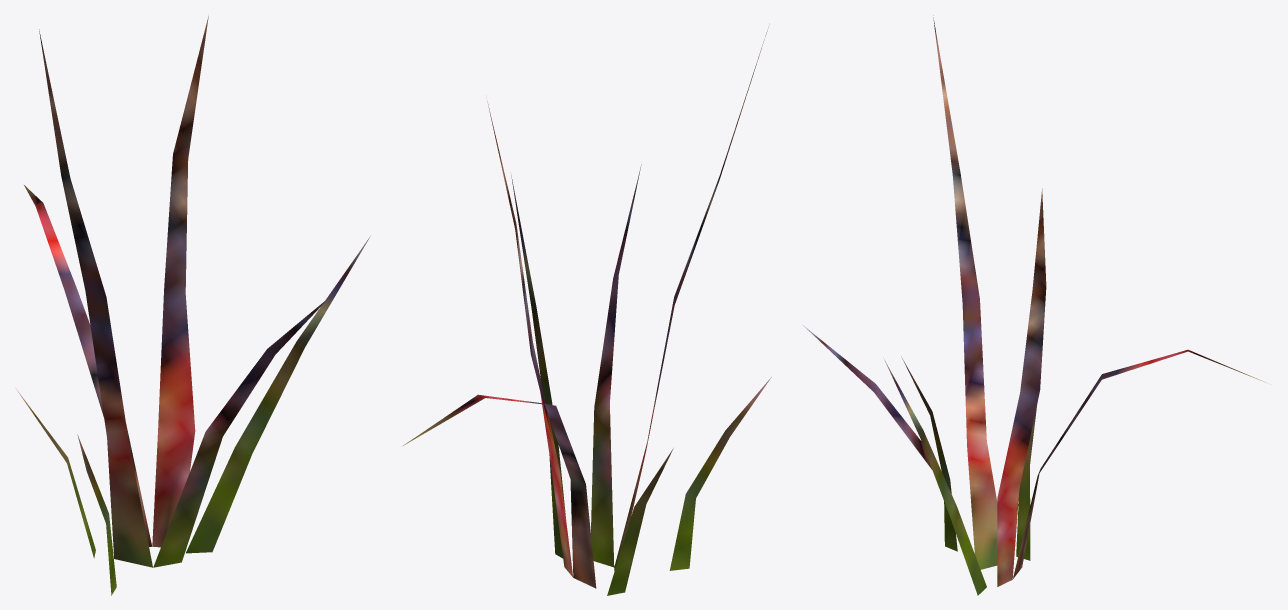
The model's file is Grass8.fbx.
3 views of the same model, side by side, from view 1: azimuth 30°, elevation 25°; view 2: azimuth 150°, elevation 25°; view 3: azimuth 270°, elevation 25° (orthographic). The views are drawn at different scales.
Parts seen in each view (by area): view 1: Grass8; view 2: Grass8; view 3: Grass8.
Part boxes in pixels (box(x1,y1,x2,y2)): Grass8: box(16, 16, 370, 595); Grass8: box(403, 31, 771, 595); Grass8: box(803, 15, 1265, 595).
Bounding box in the file's own units: 116 × 218 × 186.
